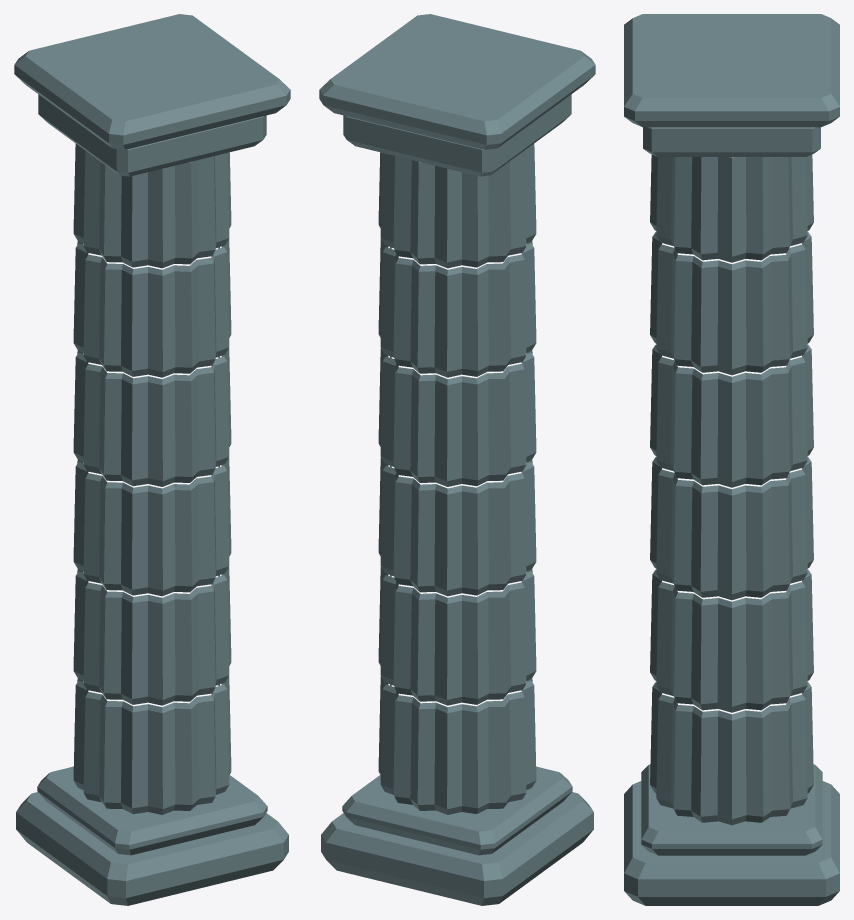
Rendered from column.glb.
The picture shows the model from 3 angles, left to right: view 1: azimuth 30°, elevation 25°; view 2: azimuth 150°, elevation 25°; view 3: azimuth 270°, elevation 25°; orthographic projection. The views are drawn at different scales.
Parts seen in each view (by area): view 1: column; view 2: column; view 3: column.
Part boxes in pixels (x1,y1,x2,y2): column: (14,14,290,905); column: (319,14,595,905); column: (624,14,839,905).
Size of the model in its own units: 2 by 8.26 by 2.
